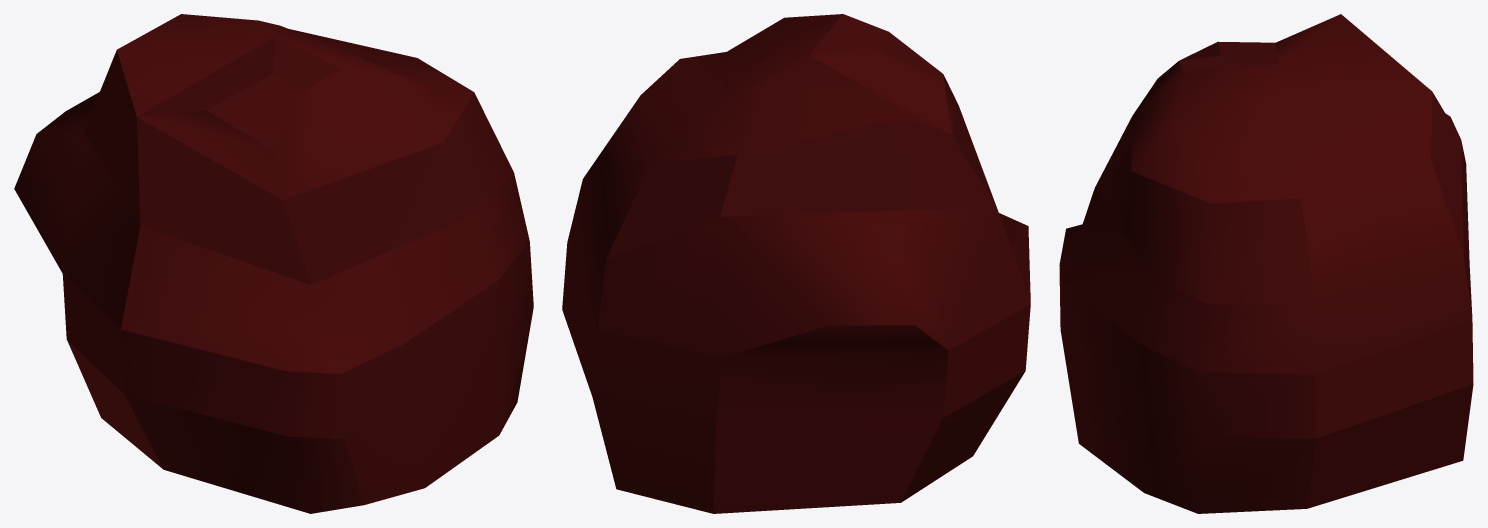
File: BlockingMoundSmall.fbx
3 views of the same model, side by side, from view 1: azimuth 30°, elevation 25°; view 2: azimuth 150°, elevation 25°; view 3: azimuth 270°, elevation 25° (orthographic). The views are drawn at different scales.
Parts seen in each view (by area): view 1: BlaokingMoundSmall; view 2: BlaokingMoundSmall; view 3: BlaokingMoundSmall.
Boxes of the visible parts, <box> form: BlaokingMoundSmall: <box>14,14,533,513</box>; BlaokingMoundSmall: <box>562,14,1030,513</box>; BlaokingMoundSmall: <box>1059,14,1473,513</box>.
Bounding box in the file's own units: 1301 × 1213 × 1176.
